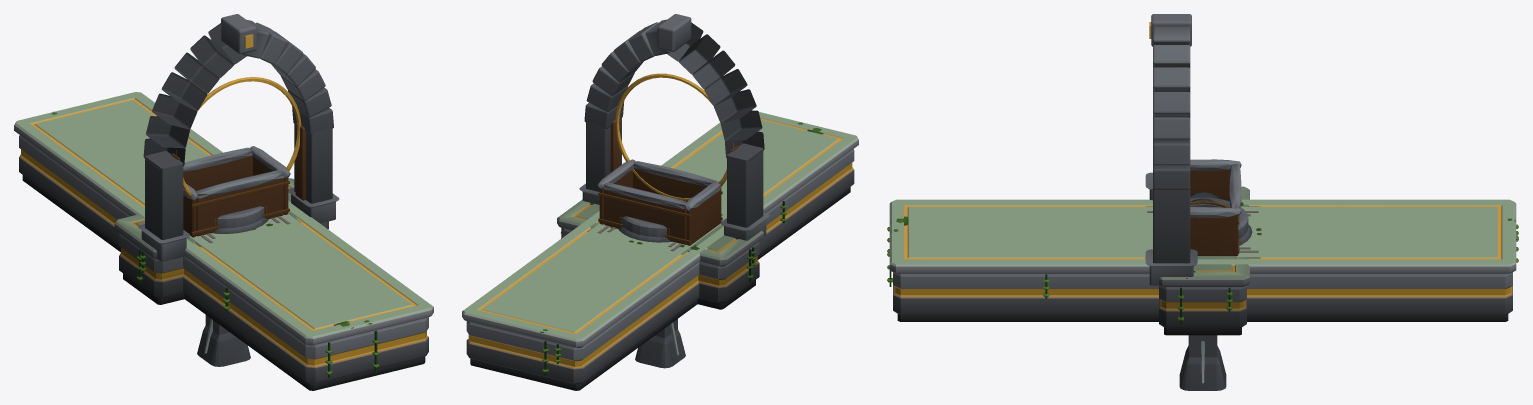
Rendered from temple-2-DmqWzW3M.glb.
3 renders of one model, left to right at view 1: azimuth 30°, elevation 25°; view 2: azimuth 150°, elevation 25°; view 3: azimuth 270°, elevation 25°, orthographic. The views are drawn at different scales.
Visible parts, largest first — view 1: block_10x2x40#0, portal_#0, hopper_6x3#0, block_14x2x6#0, support_0_square#0, geyserVent_3.9#0; view 2: block_10x2x40#0, portal_#0, hopper_6x3#0, block_14x2x6#0, support_0_square#0, geyserVent_3.9#0; view 3: block_10x2x40#0, portal_#0, block_14x2x6#0, hopper_6x3#0, support_0_square#0, geyserVent_3.9#0.
Part boxes in pixels (box(x1,y1,x2,y2)): block_10x2x40#0: box(14, 92, 433, 390); portal_#0: box(138, 14, 339, 261); hopper_6x3#0: box(183, 146, 290, 237); block_14x2x6#0: box(114, 178, 328, 304); support_0_square#0: box(197, 315, 250, 366); geyserVent_3.9#0: box(211, 206, 268, 233); block_10x2x40#0: box(462, 110, 858, 390); portal_#0: box(579, 14, 769, 240); hopper_6x3#0: box(598, 159, 722, 245); block_14x2x6#0: box(557, 199, 763, 309); support_0_square#0: box(635, 319, 685, 368); geyserVent_3.9#0: box(618, 216, 671, 242); block_10x2x40#0: box(887, 199, 1518, 321); portal_#0: box(1145, 14, 1197, 285); block_14x2x6#0: box(1159, 186, 1249, 335); hopper_6x3#0: box(1190, 159, 1241, 256); support_0_square#0: box(1179, 335, 1226, 390); geyserVent_3.9#0: box(1190, 197, 1252, 245).
Size of the model in its own units: 14.34 by 25.59 by 40.34.
